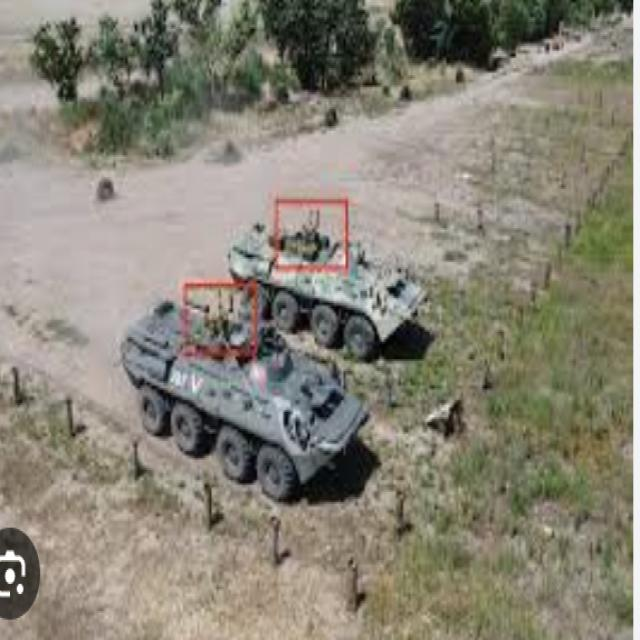MIL_APC: (117, 292, 375, 507), (235, 216, 428, 366)
